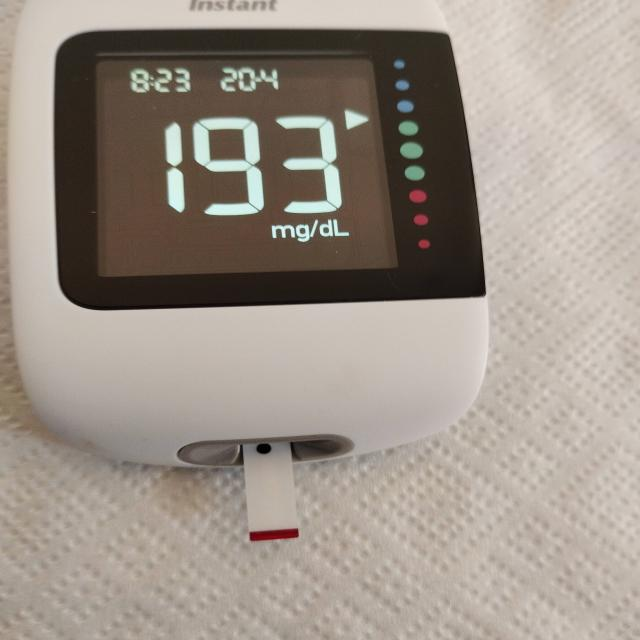gluco: (3, 0, 490, 471)
